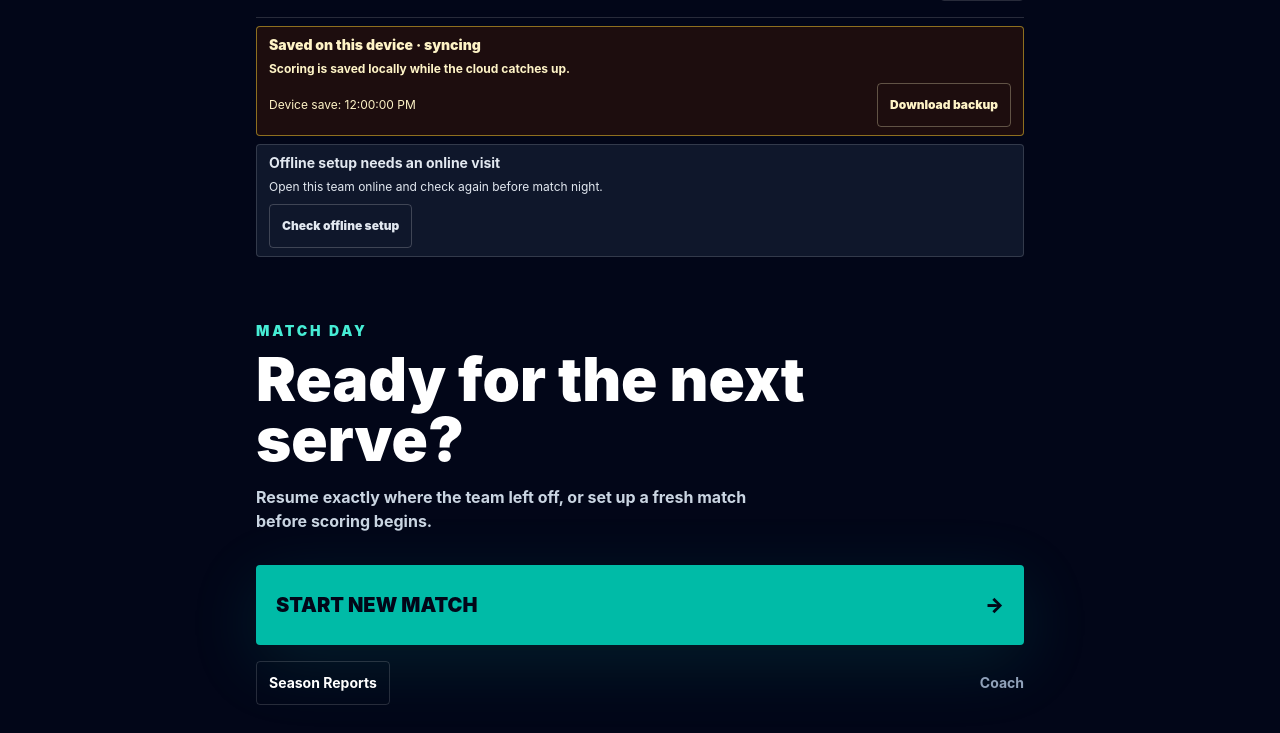
it: CourtsideMatchbook match launch flow › shows Start New Match for an idle saved document and opens set-one setup
This screenshot has width=1280, height=733.
expect the heading "Ready for the next serve?" is shown: met, box x1=256 y1=349 x2=832 y2=469
Click the button "Start New Match →".
click(377, 605)  # box x1=256 y1=565 x2=1024 y2=645
(page scrolled)
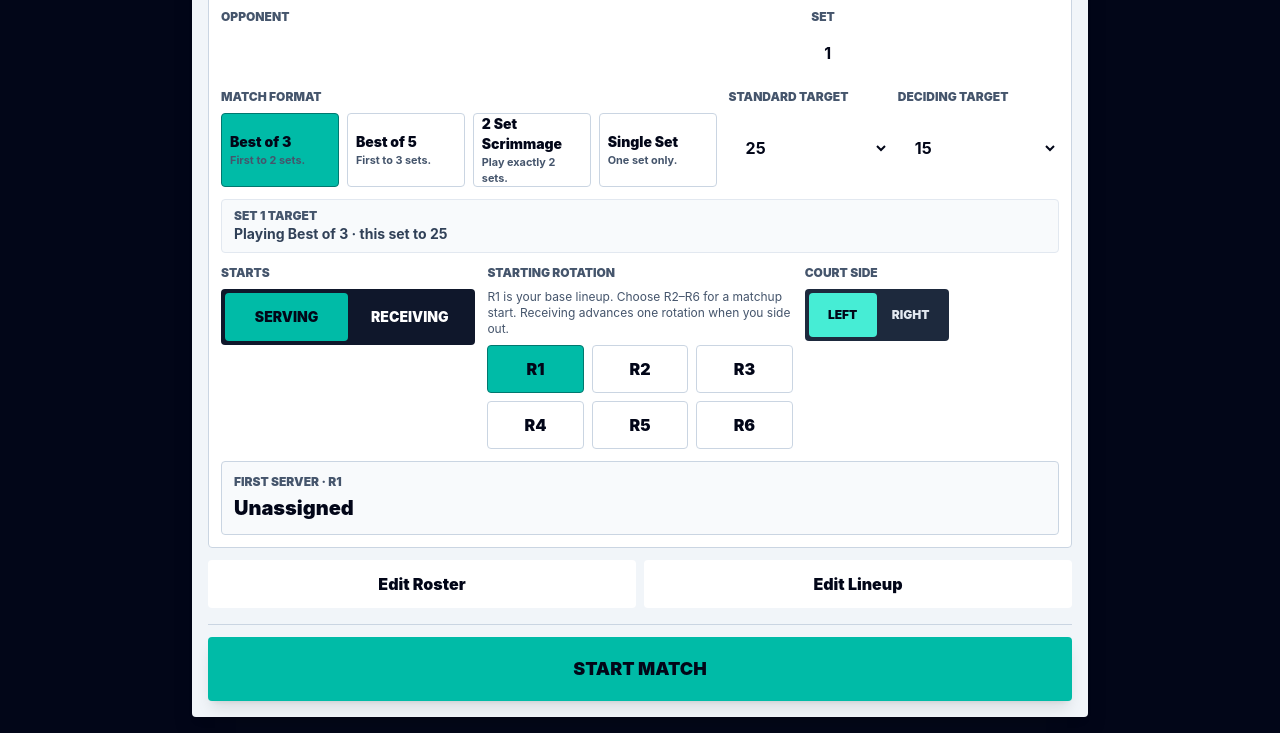
expect the button "Start Match" is shown: met, box x1=208 y1=637 x2=1072 y2=701
